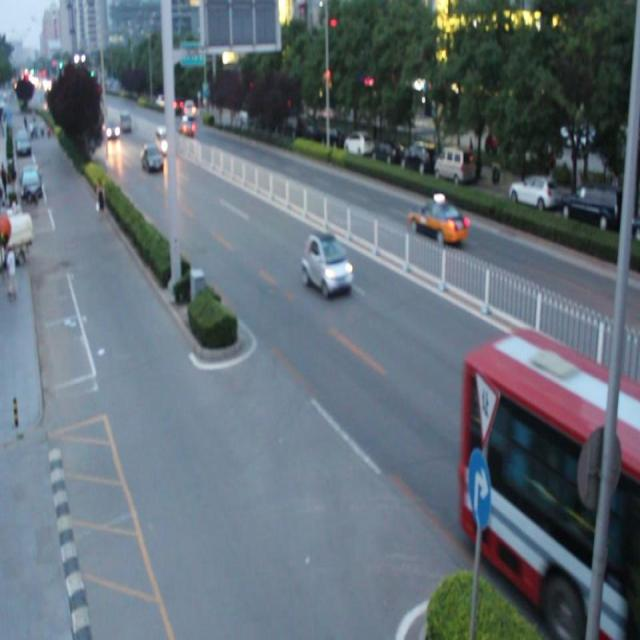car: (299, 230, 351, 299), (407, 201, 466, 242), (141, 145, 163, 173), (178, 115, 195, 135)
truck: (153, 126, 174, 153)
van: (460, 322, 640, 639)
